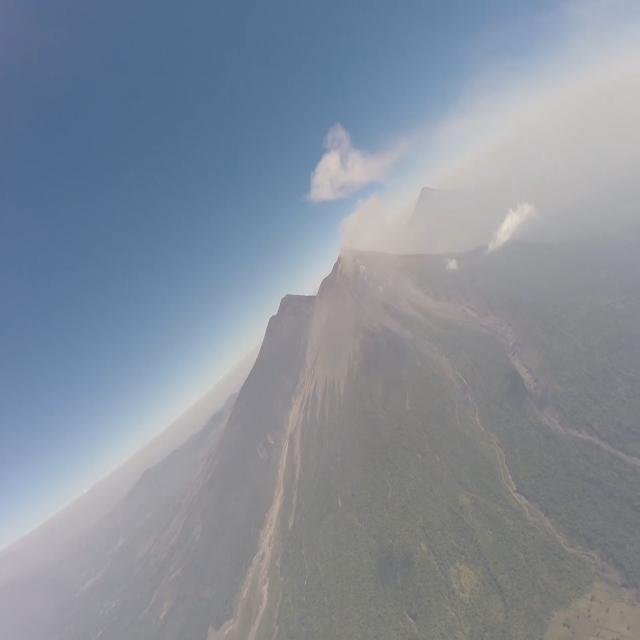Plume: (306, 114, 416, 210), (336, 194, 411, 294)
Summit: (332, 240, 366, 264)
